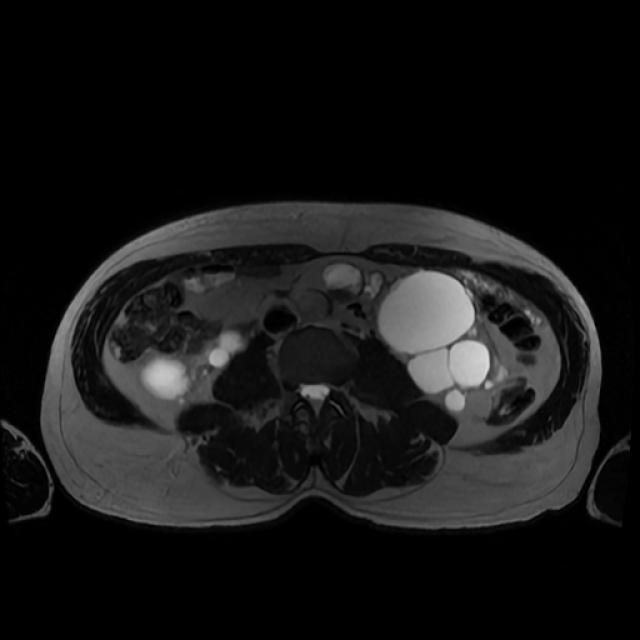sag: (141, 332, 246, 400)
sol: (380, 268, 503, 411)
